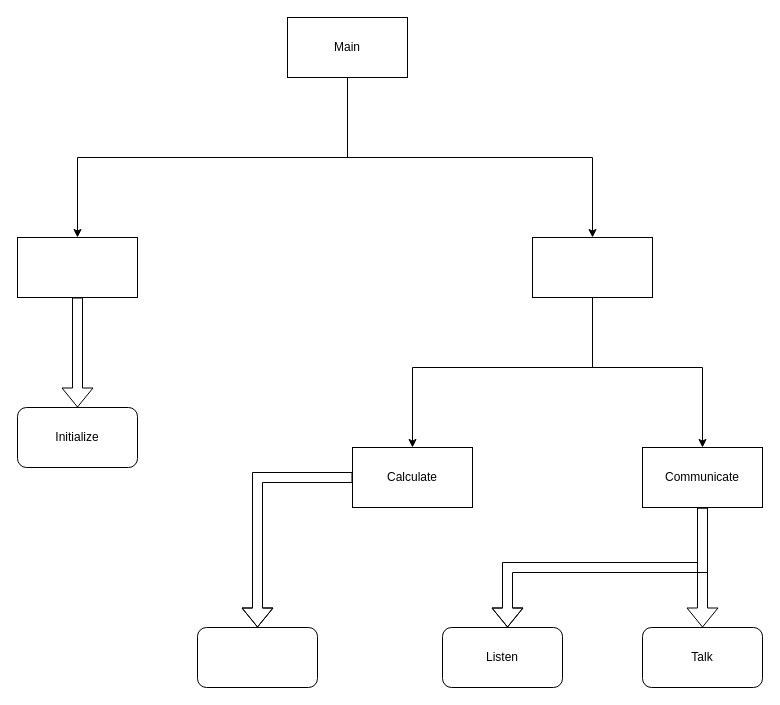
This 780x705 diagram has some shape labels left out. The centre of each missing label's shape, as x and y in pixels:
"Actions" belongs at point 257,657.
"Init" belongs at point 77,267.
"Loop" belongs at point 592,267.
